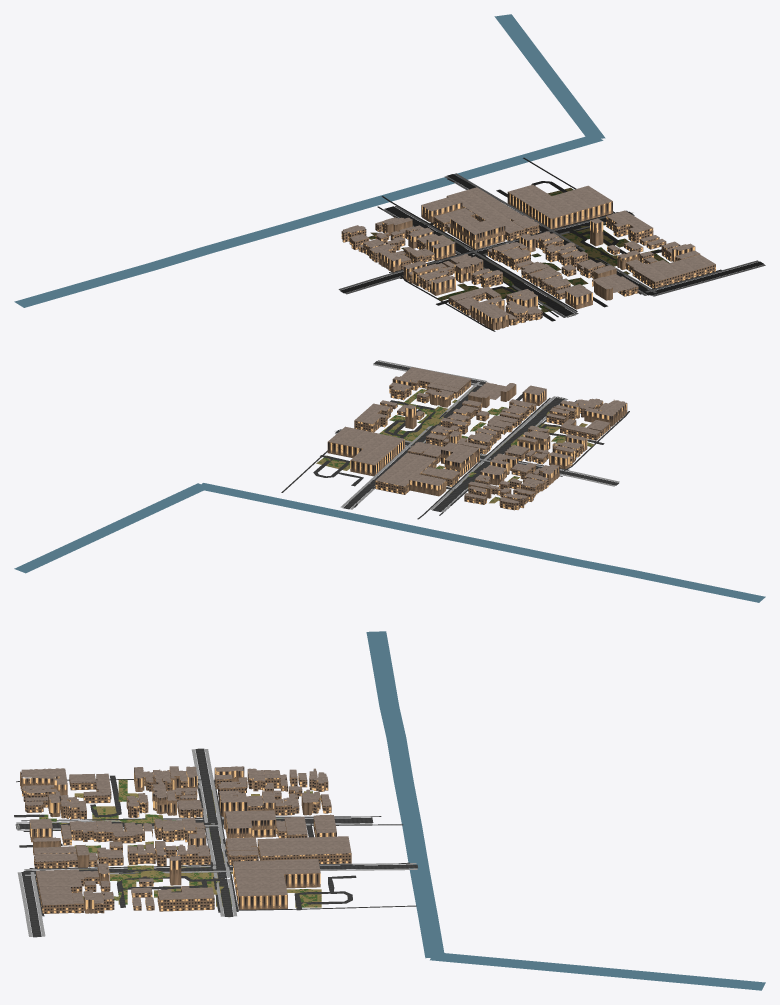
The model's file is tile_33_-23.gltf.
The picture shows the model from 3 angles, top to bottom: view 1: azimuth 30°, elevation 25°; view 2: azimuth 150°, elevation 25°; view 3: azimuth 270°, elevation 25°; orthographic projection. The views are drawn at different scales.
Parts seen in each view (by area): view 1: Buildings_col, Water, Roads, Sidewalks, Terrain_col; view 2: Buildings_col, Water, Roads, Terrain_col, Sidewalks; view 3: Buildings_col, Water, Roads, Sidewalks, Terrain_col.
Boxes of the visible parts, x1,y1,x2,y2 form: Buildings_col: [341, 184, 715, 329]; Water: [14, 14, 605, 307]; Roads: [340, 157, 764, 331]; Sidewalks: [338, 173, 765, 317]; Terrain_col: [368, 187, 669, 312]; Buildings_col: [327, 367, 627, 510]; Water: [14, 483, 765, 602]; Roads: [281, 361, 629, 519]; Terrain_col: [316, 387, 594, 503]; Sidewalks: [335, 360, 619, 512]; Buildings_col: [20, 766, 351, 913]; Water: [366, 631, 765, 990]; Roads: [14, 748, 417, 937]; Sidewalks: [16, 749, 417, 936]; Terrain_col: [39, 779, 321, 907].
Size of the model in its own units: 771 by 35.06 by 682.
Materials: 7 (6 with a texture image).
